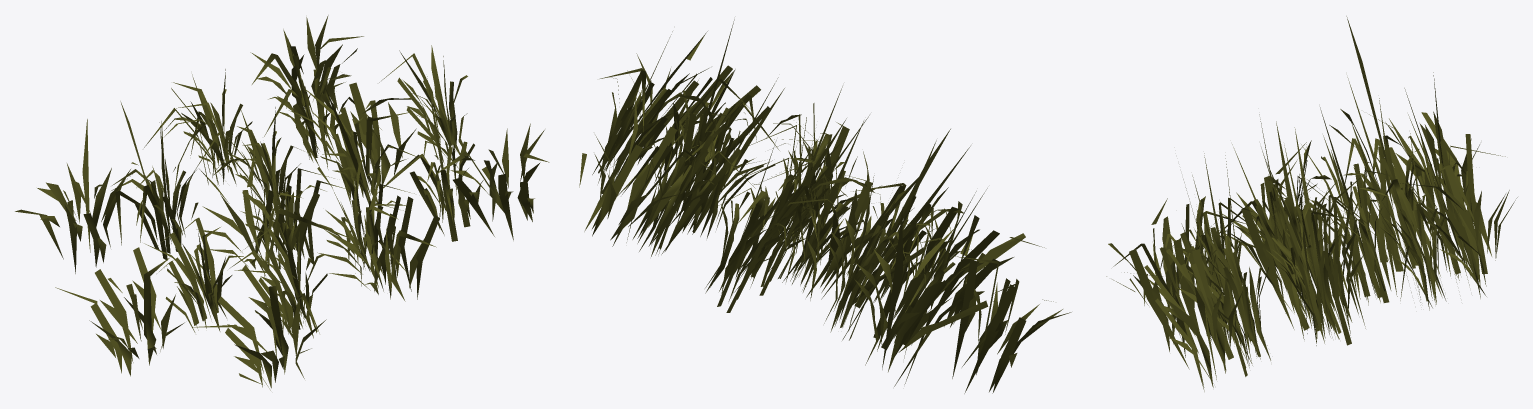
Rendered from trava.obj.
The picture shows the model from 3 angles, left to right: view 1: azimuth 30°, elevation 25°; view 2: azimuth 150°, elevation 25°; view 3: azimuth 270°, elevation 25°; orthographic projection. The views are drawn at different scales.
Parts seen in each view (by area): view 1: Plane35; view 2: Plane35; view 3: Plane35.
Boxes of the visible parts, left/top/right/bottom form: Plane35: left=15, top=15, right=549, bottom=390; Plane35: left=579, top=19, right=1071, bottom=393; Plane35: left=1106, top=16, right=1517, bottom=391.
Size of the model in its own units: 658 by 380 by 477.
